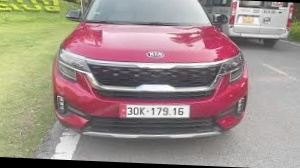Bien-so: (122, 106, 191, 123)
